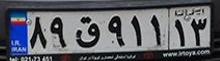character: (74, 14, 102, 50), (105, 11, 127, 49), (27, 14, 49, 50), (49, 14, 70, 49), (146, 11, 164, 48), (189, 16, 209, 47), (128, 10, 143, 49), (173, 17, 187, 49)
